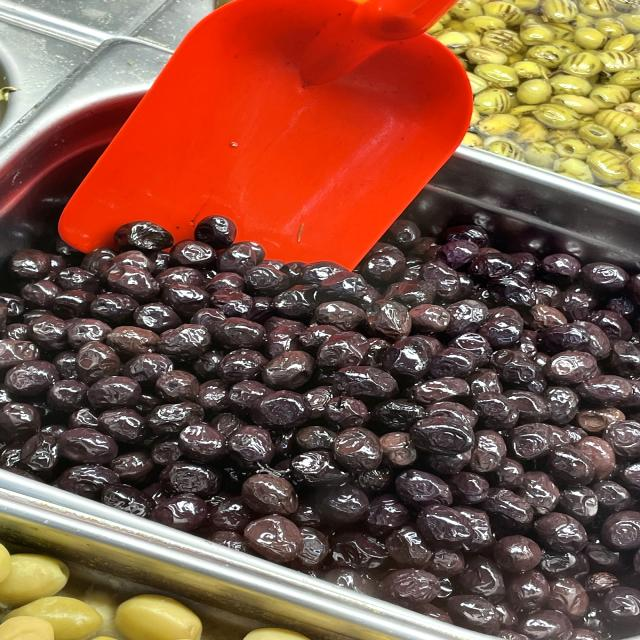olive: (407, 494, 492, 554), (236, 513, 319, 564), (319, 417, 389, 475), (401, 409, 483, 458), (48, 420, 128, 468), (323, 356, 401, 400), (239, 468, 304, 517), (169, 418, 235, 465), (534, 348, 610, 387), (68, 338, 125, 387), (503, 415, 560, 463), (212, 309, 271, 354), (144, 321, 212, 360), (100, 260, 157, 301)
